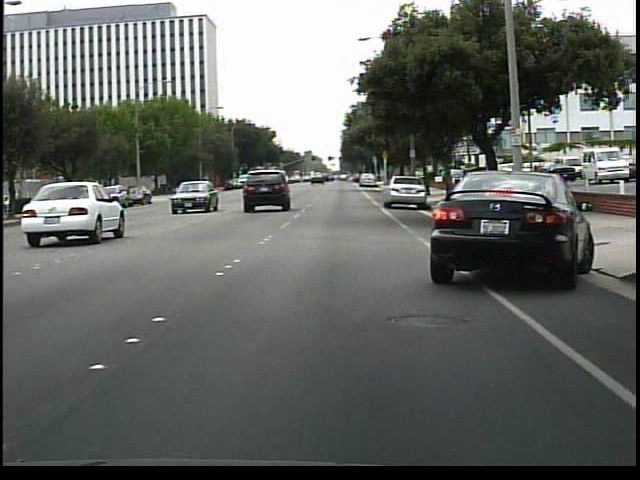person: (510, 163, 530, 211), (525, 160, 545, 195)
